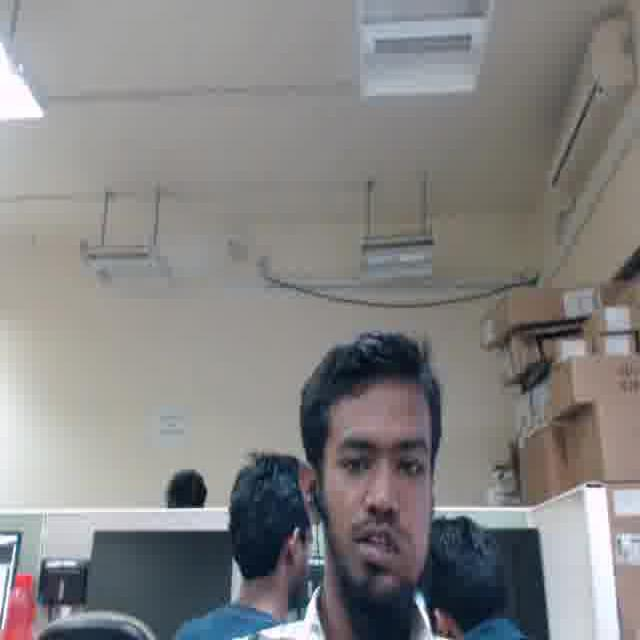Engaged: (320, 387, 434, 588)
